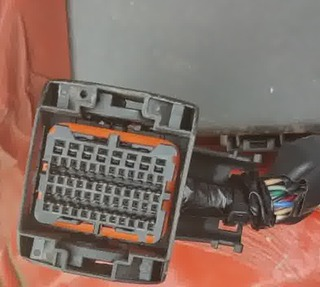connector: (17, 79, 200, 285)
